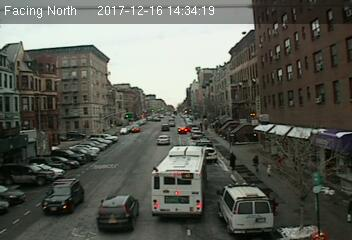bus: (147, 144, 207, 217)
car: (97, 194, 138, 231), (44, 178, 82, 212), (155, 134, 170, 147), (177, 127, 188, 135)
pedestrian: (251, 153, 261, 172), (229, 151, 238, 172)
police: (215, 182, 276, 233)
